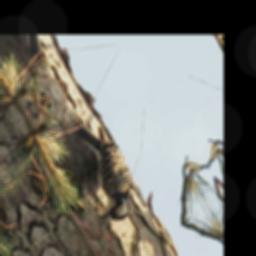Woodpecker: (55, 109, 149, 232)
